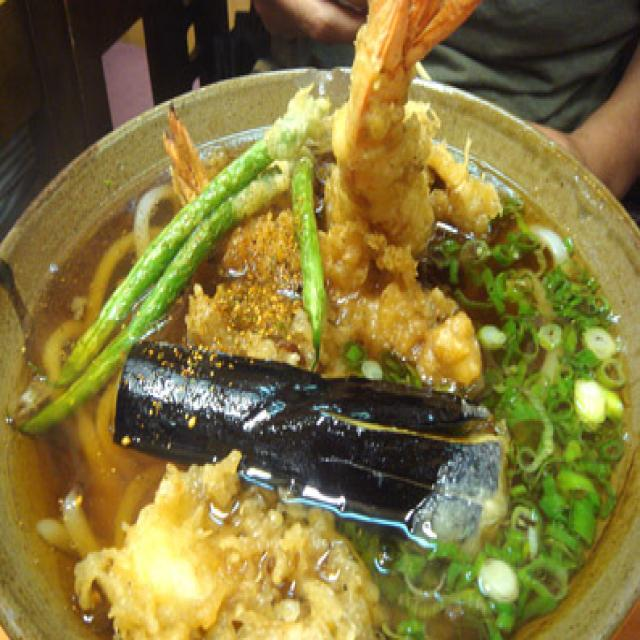面条主食: (11, 0, 630, 629)
